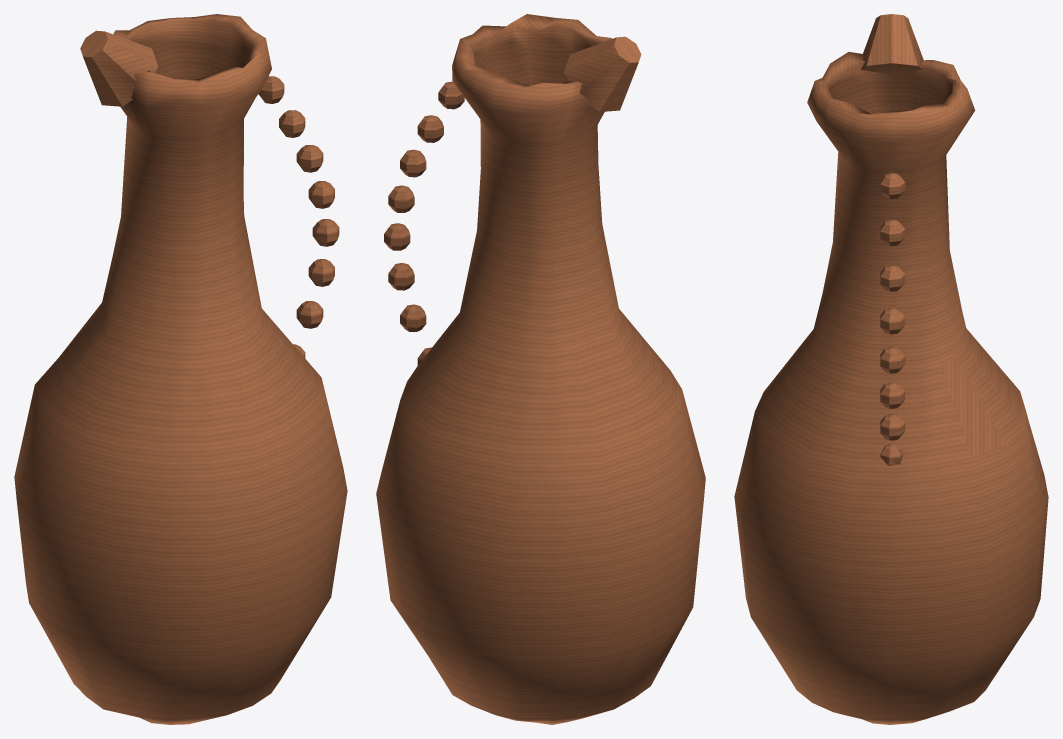
The model's file is jug.glb.
3 views of the same model, side by side, from view 1: azimuth 30°, elevation 25°; view 2: azimuth 150°, elevation 25°; view 3: azimuth 270°, elevation 25° (orthographic). The views are drawn at different scales.
Parts seen in each view (by area): view 1: jug; view 2: jug; view 3: jug.
Part boxes in pixels (x1,y1,x2,y2): jug: [14, 14, 347, 724]; jug: [376, 14, 705, 724]; jug: [734, 14, 1048, 724].
Size of the model in its own units: 0.4129 by 0.8947 by 0.3902.
1 material, 1 textured.
